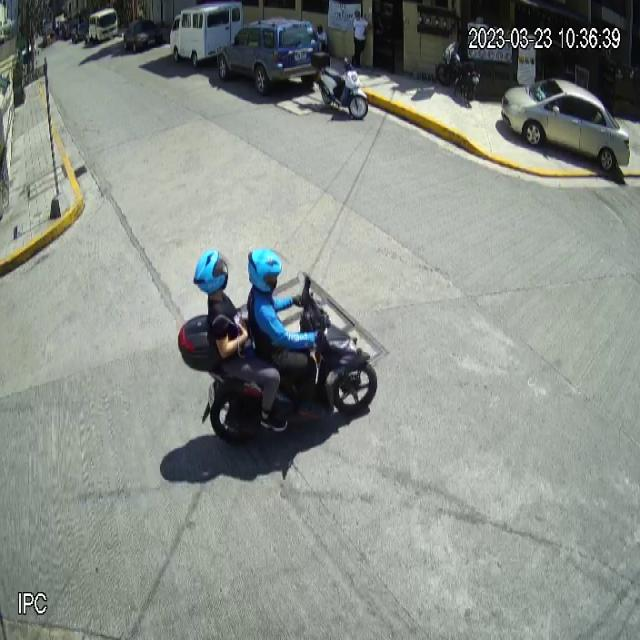Car: (501, 78, 632, 173), (217, 17, 323, 89)
Motorcycle: (176, 272, 380, 445), (310, 48, 368, 122)
Van: (170, 1, 242, 67)
